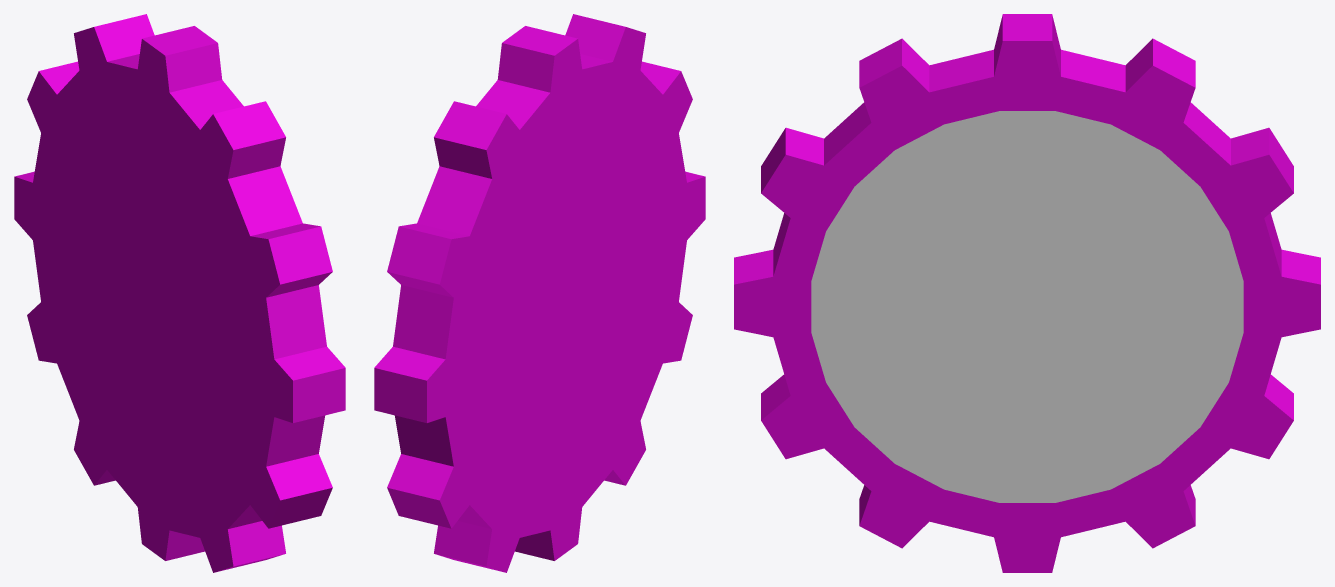
The model's file is PortalGear.fbx.
3 views of the same model, side by side, from view 1: azimuth 30°, elevation 25°; view 2: azimuth 150°, elevation 25°; view 3: azimuth 270°, elevation 25° (orthographic). The views are drawn at different scales.
Parts seen in each view (by area): view 1: PortalGear; view 2: PortalGear; view 3: PortalGear.
Boxes of the visible parts, left/top/right/bottom form: PortalGear: left=14, top=14, right=345, bottom=572; PortalGear: left=374, top=14, right=705, bottom=572; PortalGear: left=734, top=14, right=1320, bottom=572.
Size of the model in its own units: 50 by 458 by 458.
